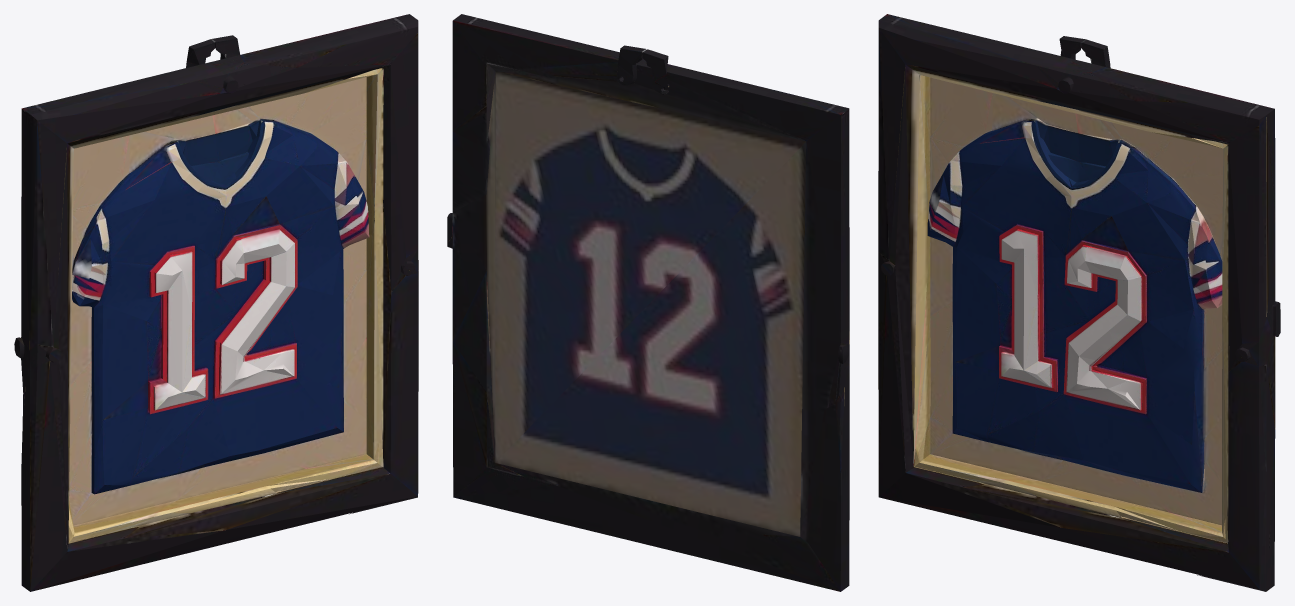
Rendered from jerseyframe.glb.
3 views of the same model, side by side, from view 1: azimuth 30°, elevation 25°; view 2: azimuth 150°, elevation 25°; view 3: azimuth 330°, elevation 25° (orthographic).
Size of the model in its own units: 1.59 by 1.9 by 0.15.
1 material, 1 textured.
